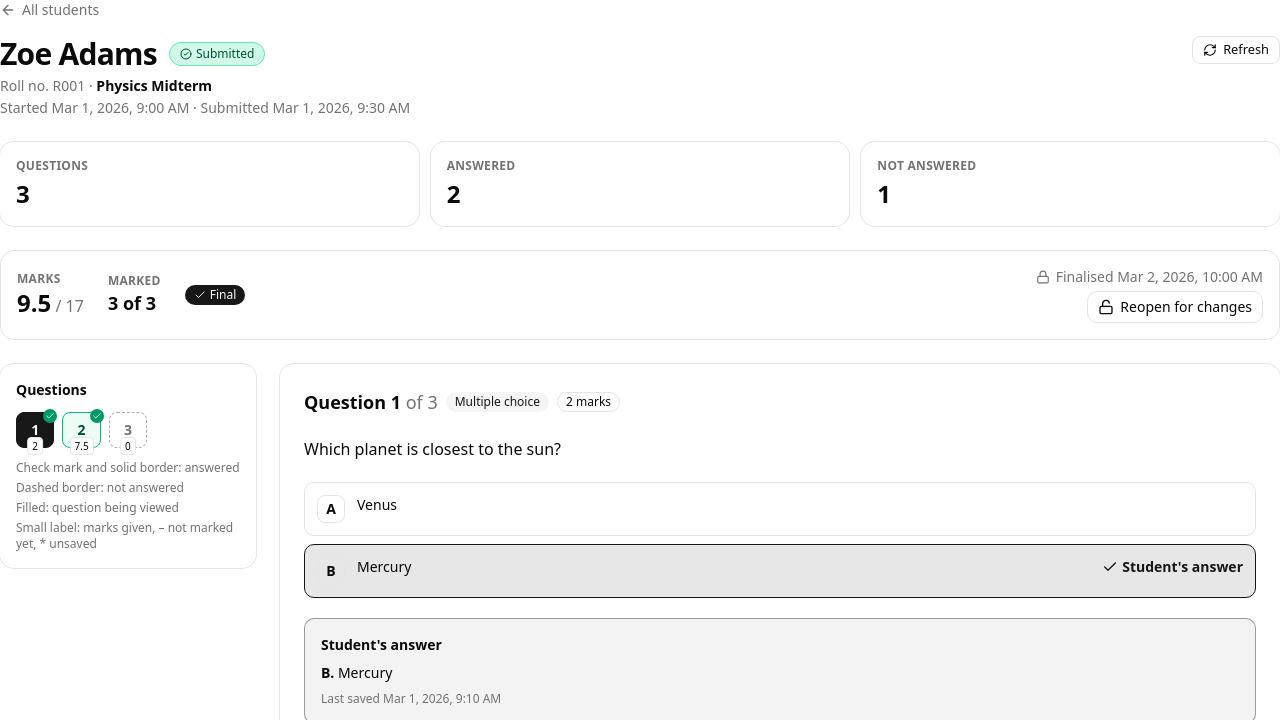
Scenario: finalising and reopening a paper › reports a refused reopen without closing the dialog
expect the element named "Paper marks" is shown: met, box 17,271 -> 245,319
Click the button "Reopen for changes" at [1175, 307], box 1087,291 -> 1263,323
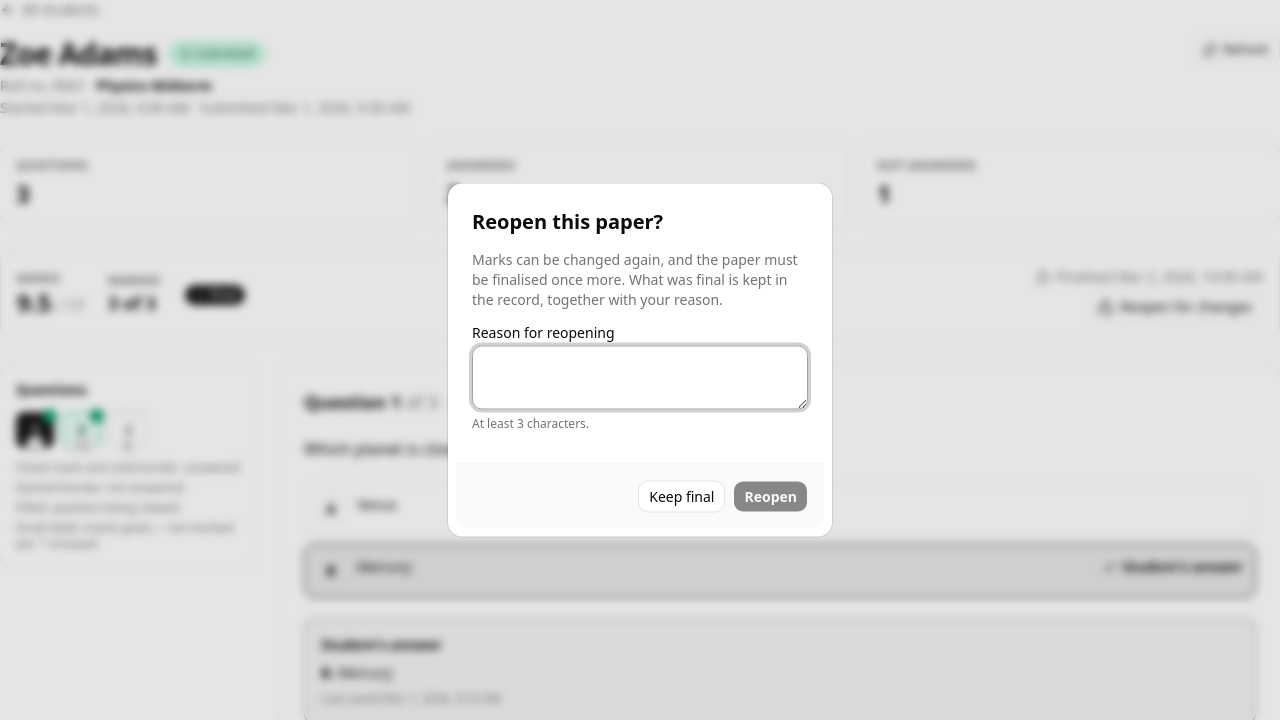
Type "appeal upheld" into the text box labelled "Reason for reopening" at [640, 378], box 472,346 -> 808,410
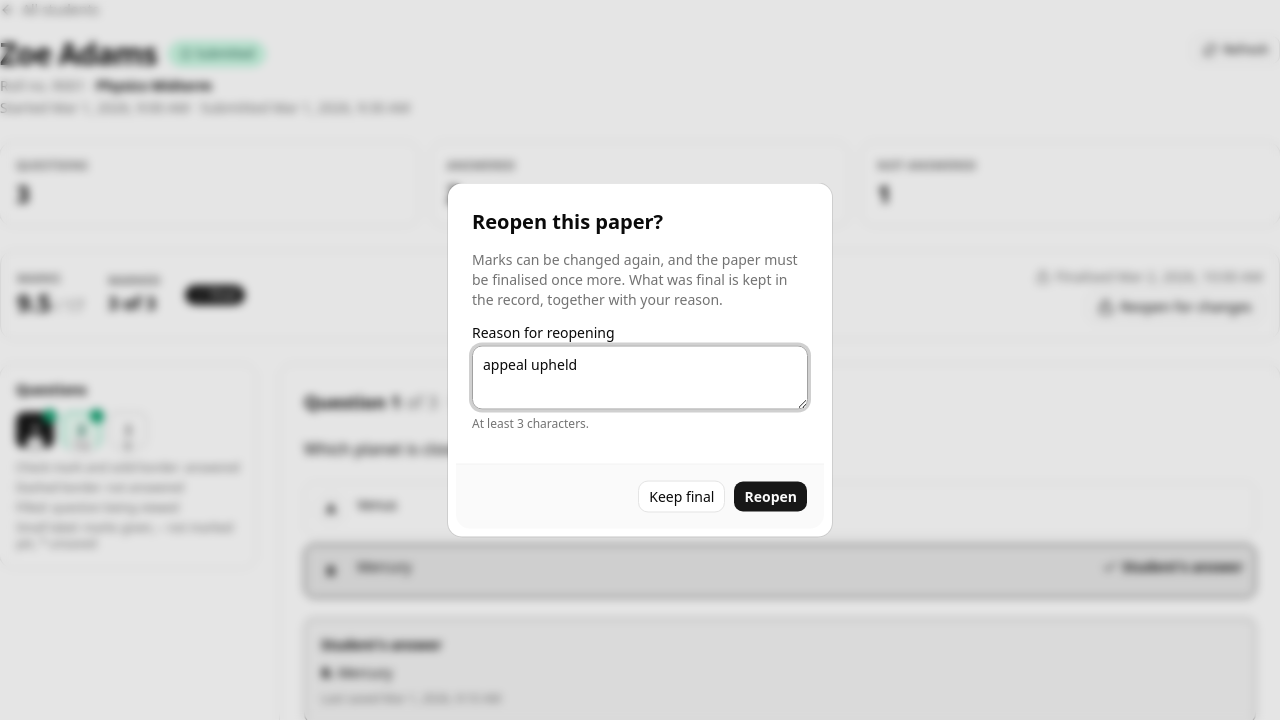
Click the button "Reopen" at [771, 496], box 734,480 -> 808,512
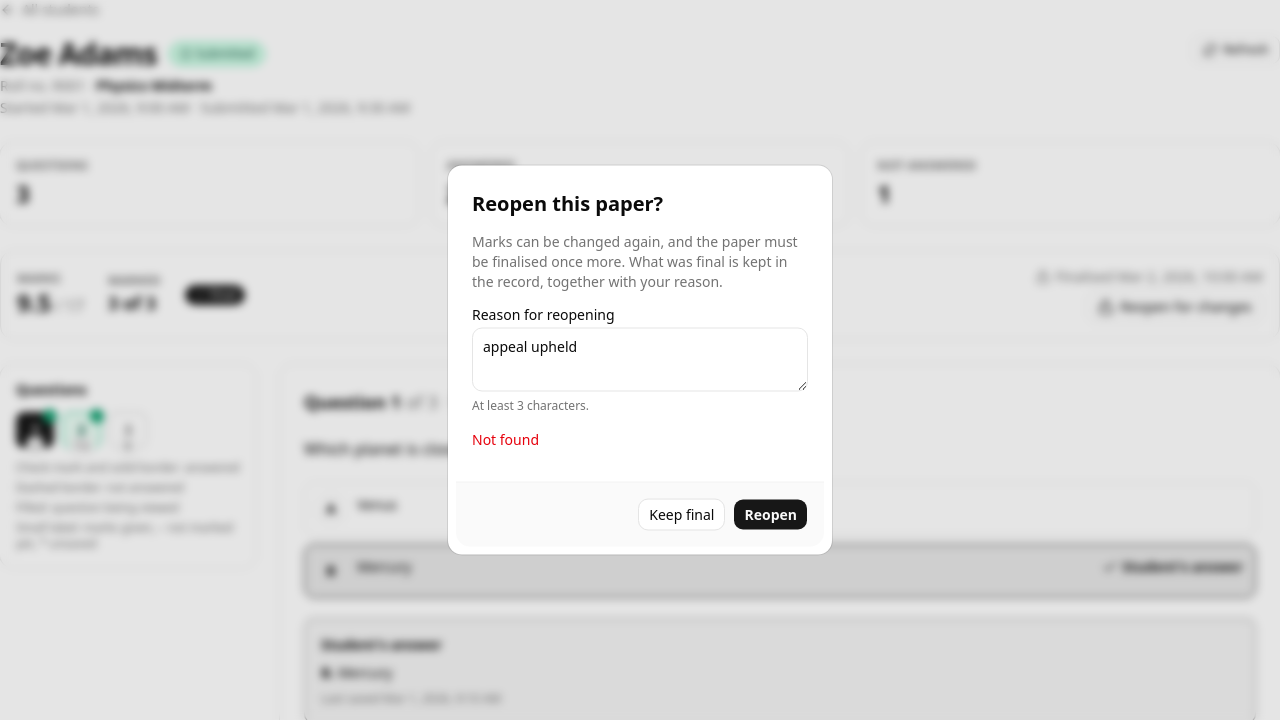
expect the dialog is shown: met, box 448,166 -> 832,554
expect the message reads "Not found": met, box 472,430 -> 539,448
